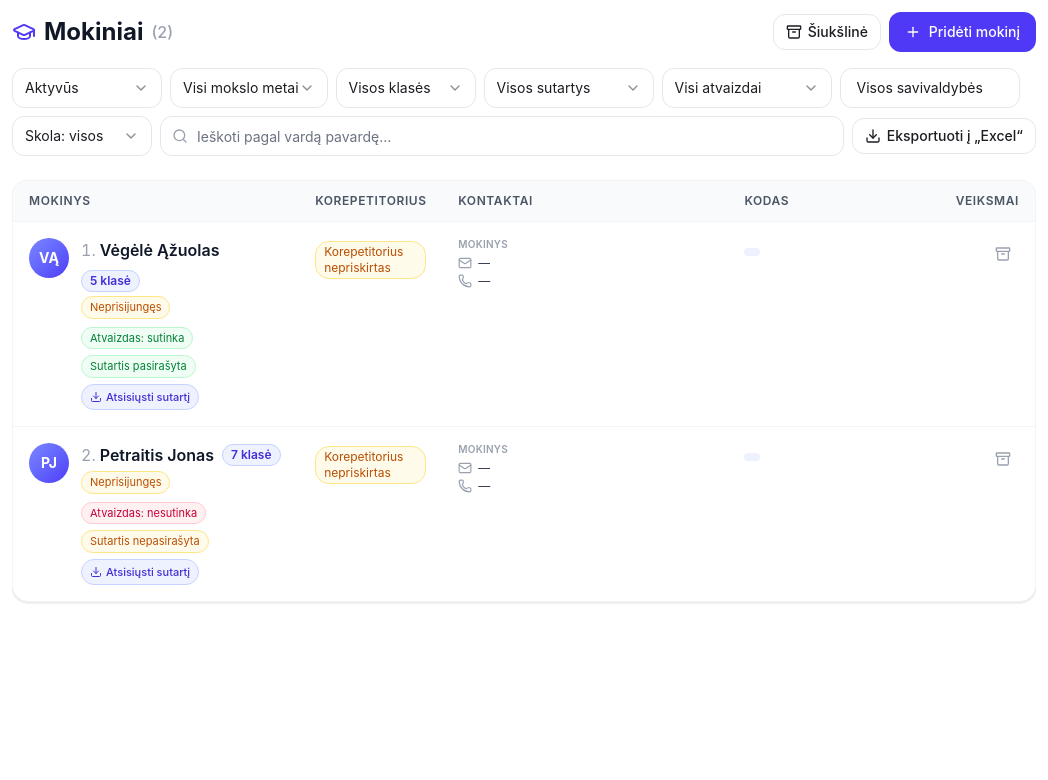
Test: CompanyStudents school list filters › shows the count, numbers the rows and renders grade + contract filters
Expected: the text "(2)" is shown, [151,20,173,44]
Expected: the text "Aktyvūs" is shown, [25,78,79,98]
# Plain search still narrows the list.
Type "Petraitis" into the search field with placeholder "Ieškoti pagal vardą pavardę…".
click(502, 136); type("Petraitis")  # box [160,116,844,156]
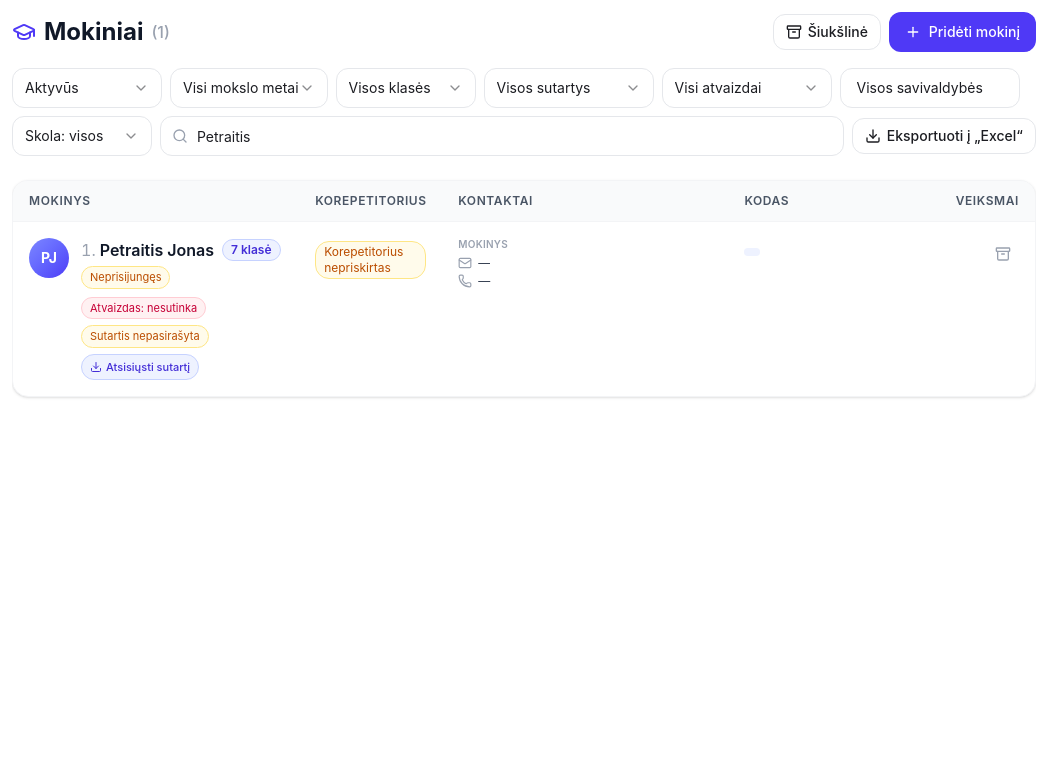
Now the text "Vėgėlė Ąžuolas" is not shown
